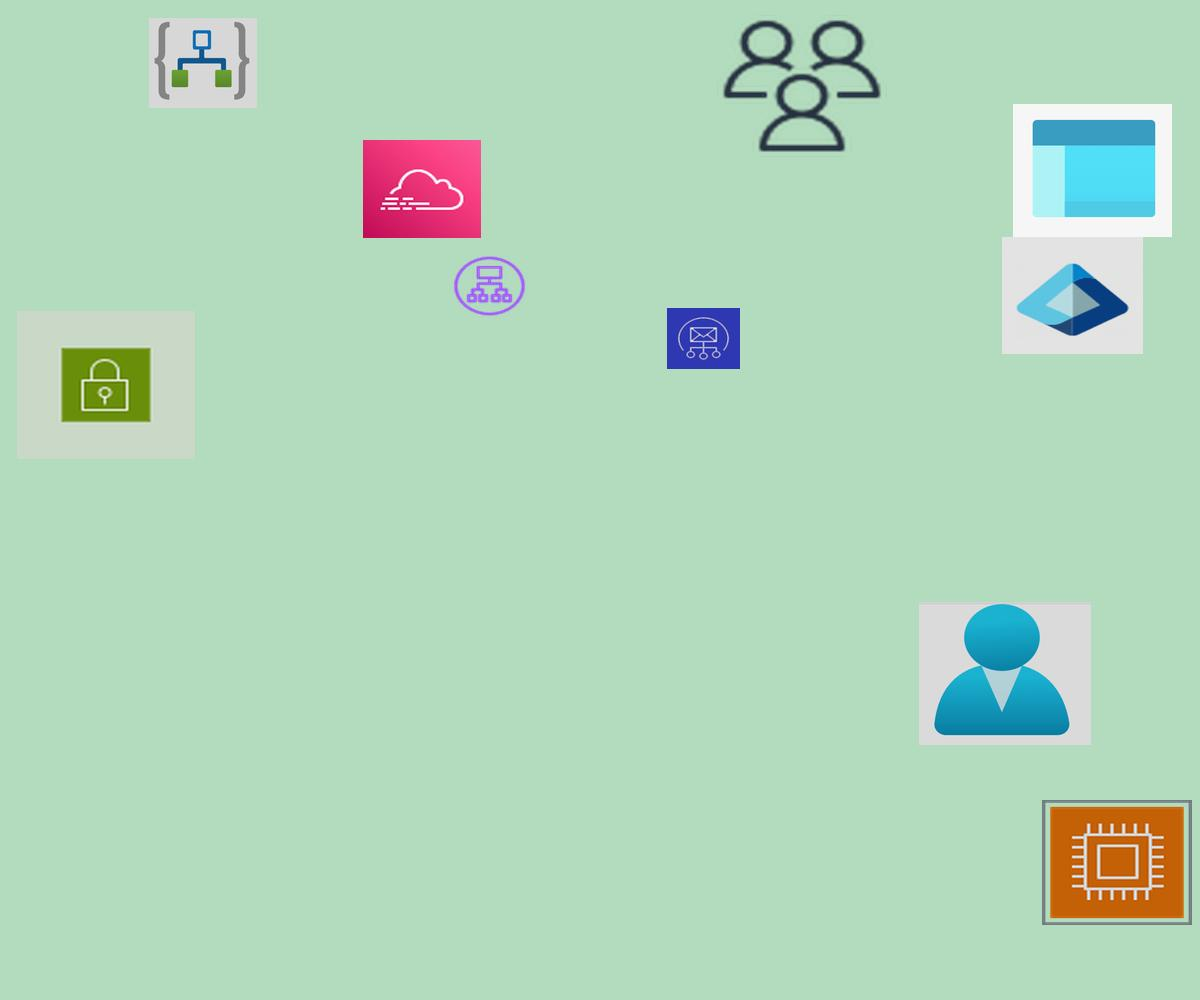AWS-Category_Compute: (1042, 800, 1192, 925)
AWS-CloudTrail: (363, 140, 481, 238)
AWS-Public-subnet: (17, 311, 195, 459)
AWS-Res_Elastic-Load-Balancing_Application-Load-Balancer: (451, 254, 528, 318)
AWS-Res_Users: (717, 15, 887, 157)
AWS-Simple-Email-Service: (667, 308, 740, 369)
Azure_integration-204-Logic-Apps: (149, 18, 257, 108)
Azure_management-portal: (1013, 104, 1172, 237)
Azure_microsoft_entra: (1002, 237, 1143, 354)
Azure_users: (919, 602, 1091, 745)
